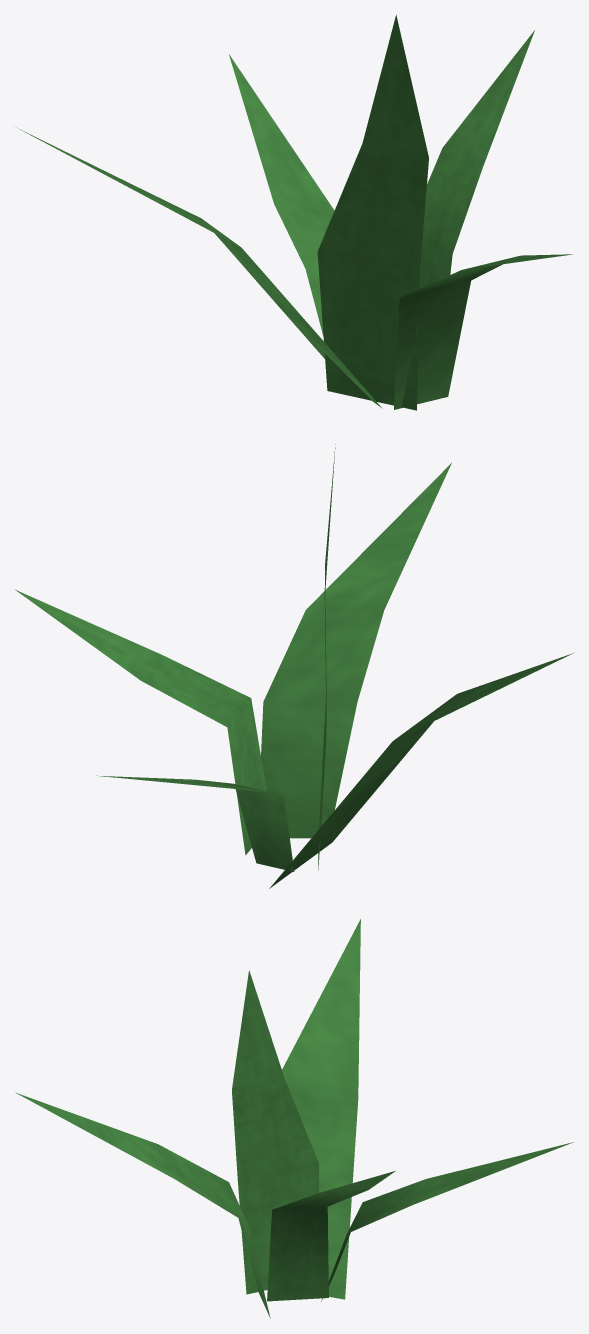
Rendered from Grass.fbx.
3 renders of one model, top to bottom at view 1: azimuth 30°, elevation 25°; view 2: azimuth 150°, elevation 25°; view 3: azimuth 270°, elevation 25°, orthographic. The views are drawn at different scales.
Visible parts, largest first — view 1: grass.001; view 2: grass.001; view 3: grass.001.
Boxes of the visible parts, x1=… form: grass.001: x1=16, y1=15, x2=572, y2=410; grass.001: x1=15, y1=444, x2=573, y2=888; grass.001: x1=15, y1=919, x2=573, y2=1318.
Size of the model in its own units: 0.8784 by 0.6358 by 0.9885.
